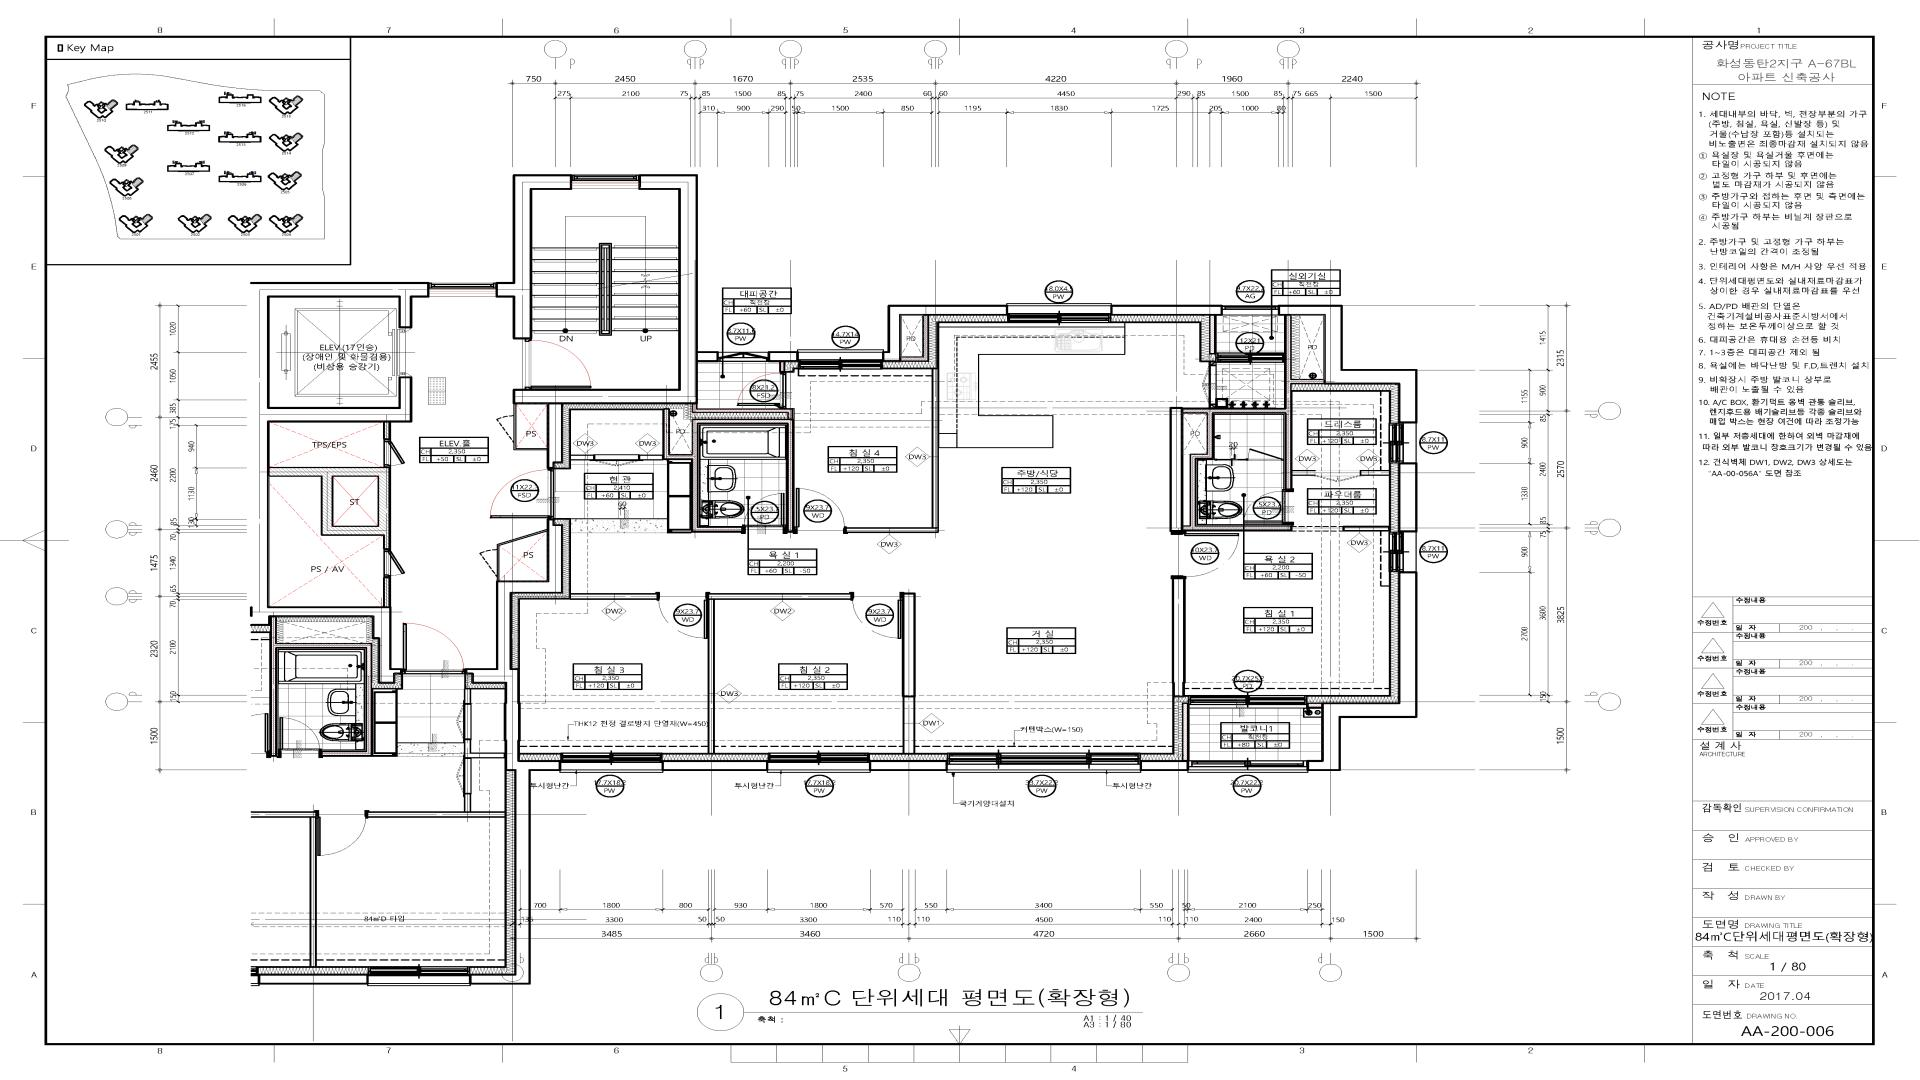background: (0, 0, 1920, 1080)
door: (522, 338, 592, 389), (1170, 531, 1240, 578), (490, 470, 556, 518), (657, 592, 708, 639), (852, 592, 903, 639), (795, 488, 847, 534), (1243, 488, 1294, 526), (742, 493, 787, 534), (736, 373, 787, 408), (1201, 362, 1217, 408), (383, 440, 405, 466), (594, 454, 640, 466), (1316, 470, 1360, 482), (1246, 448, 1283, 461)
wall: (250, 283, 429, 684), (512, 174, 719, 469), (1183, 316, 1324, 531), (465, 519, 563, 771), (708, 593, 851, 753), (1307, 571, 1418, 771), (1278, 305, 1418, 424), (663, 409, 795, 532), (847, 369, 939, 533), (495, 175, 572, 339), (270, 467, 391, 550), (883, 305, 1008, 362), (333, 477, 379, 526), (902, 594, 915, 754), (692, 404, 793, 419), (1173, 579, 1185, 696), (1399, 463, 1418, 532), (902, 316, 929, 362), (1111, 305, 1223, 316), (661, 760, 768, 771), (869, 760, 948, 771), (1140, 760, 1189, 771), (570, 593, 657, 599), (1182, 703, 1190, 760), (768, 351, 799, 362), (382, 576, 392, 607), (1342, 526, 1390, 532), (1209, 316, 1216, 354), (1360, 470, 1390, 476), (383, 422, 391, 440), (1292, 470, 1316, 476), (640, 454, 663, 460), (569, 455, 594, 460), (1307, 703, 1321, 709), (779, 362, 785, 373)
window: (948, 753, 1140, 772), (560, 753, 662, 773), (768, 753, 869, 773), (1007, 303, 1111, 322), (798, 350, 883, 369), (1188, 760, 1307, 773), (1190, 696, 1307, 709), (1389, 424, 1417, 463), (1388, 533, 1416, 571), (430, 282, 496, 297), (572, 175, 638, 189), (1217, 353, 1284, 363), (1223, 305, 1277, 316), (719, 352, 767, 362)
